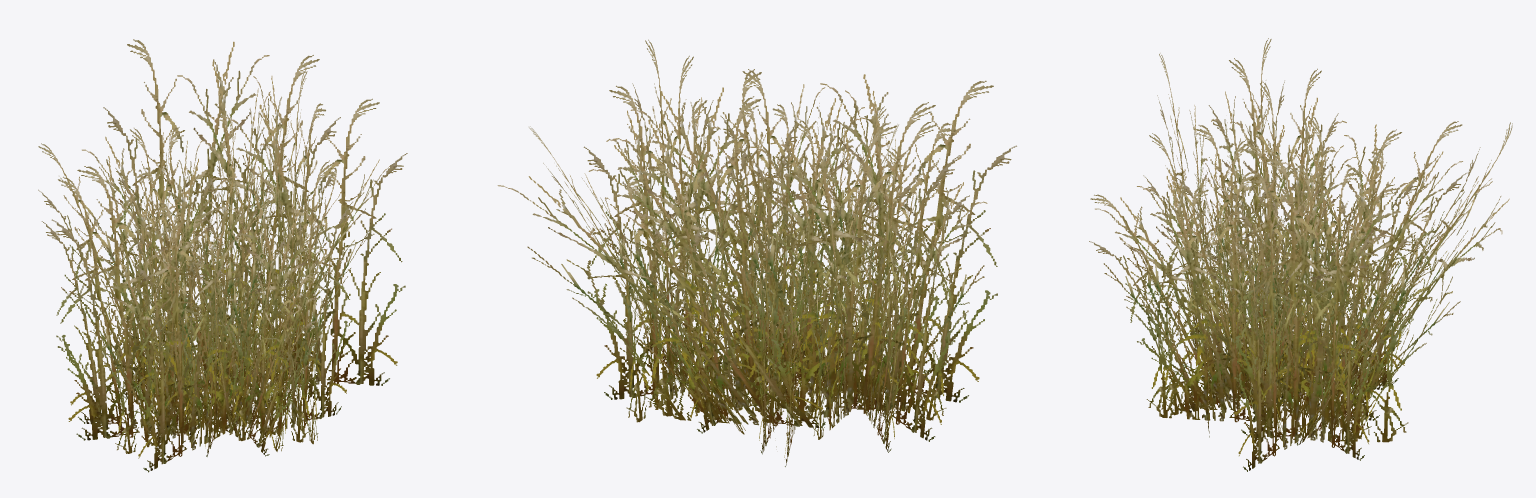
File: far.glb
The picture shows the model from 3 angles, left to right: view 1: azimuth 30°, elevation 25°; view 2: azimuth 150°, elevation 25°; view 3: azimuth 270°, elevation 25°; orthographic projection. The views are drawn at different scales.
Parts seen in each view (by area): view 1: lod1, lod2; view 2: lod1, lod2; view 3: lod1, lod2.
Boxes of the visible parts, x1,y1,x2,y2 form: lod1: [38, 55, 389, 456]; lod2: [51, 39, 407, 472]; lod1: [529, 69, 987, 466]; lod2: [497, 39, 1016, 441]; lod1: [1089, 68, 1491, 460]; lod2: [1095, 38, 1512, 471].
Size of the model in its own units: 4.44 by 3.58 by 4.63.
Materials: 1 (1 with a texture image).
